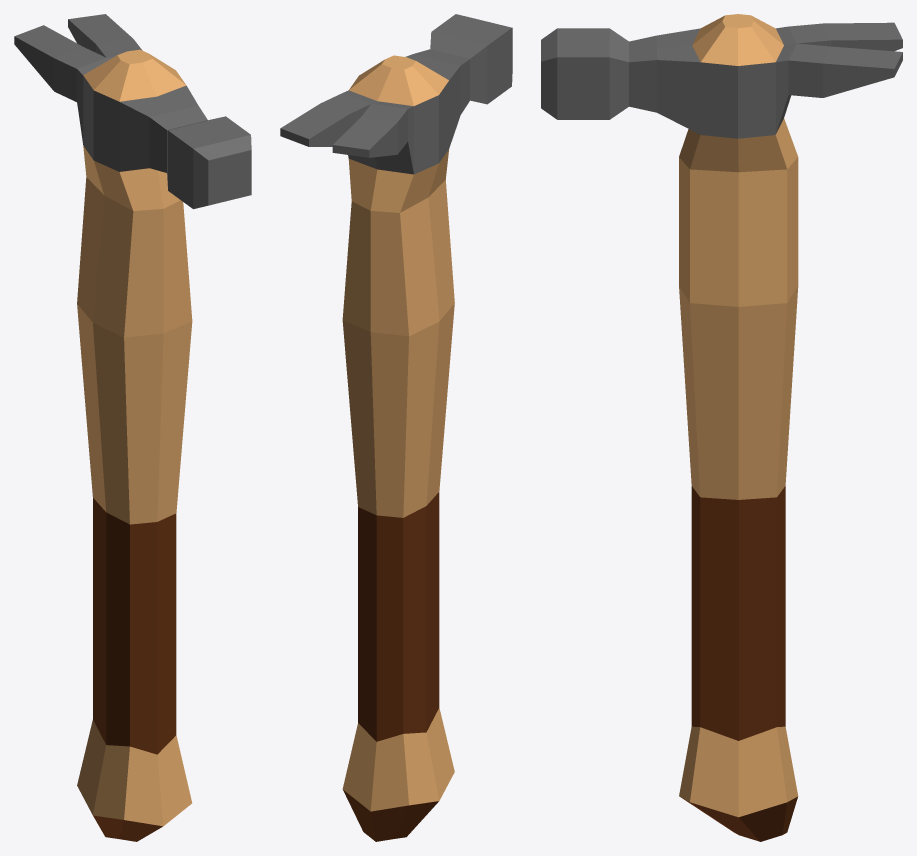
The model's file is hammer.fbx.
The picture shows the model from 3 angles, left to right: view 1: azimuth 30°, elevation 25°; view 2: azimuth 150°, elevation 25°; view 3: azimuth 270°, elevation 25°; orthographic projection. The views are drawn at different scales.
Parts seen in each view (by area): view 1: Hammer; view 2: Hammer; view 3: Hammer.
Part boxes in pixels (x1,y1,x2,y2): Hammer: [14, 14, 251, 841]; Hammer: [280, 14, 512, 841]; Hammer: [541, 14, 902, 841].
Size of the model in its own units: 15.46 by 127 by 51.15.
